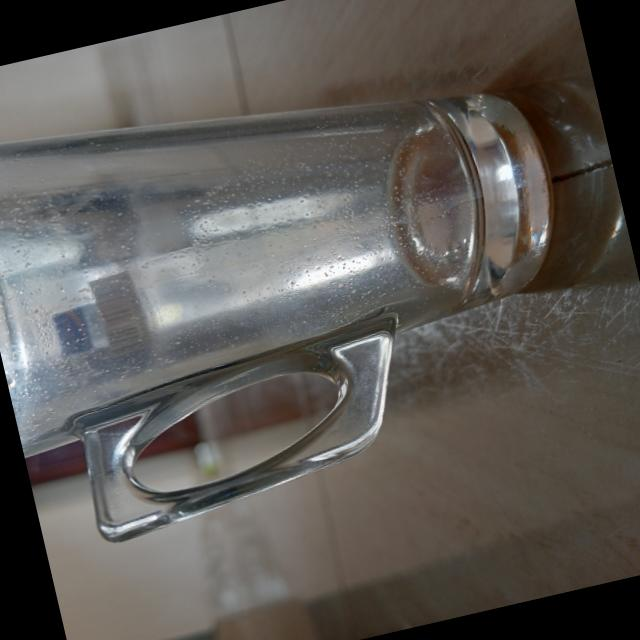glass-VX4N: (0, 14, 611, 565)
